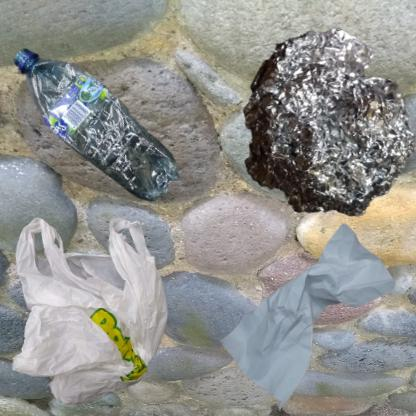aluminio: (213, 10, 416, 256)
bolsa: (10, 213, 172, 412)
botella: (10, 10, 224, 281)
papel: (213, 213, 403, 416)
